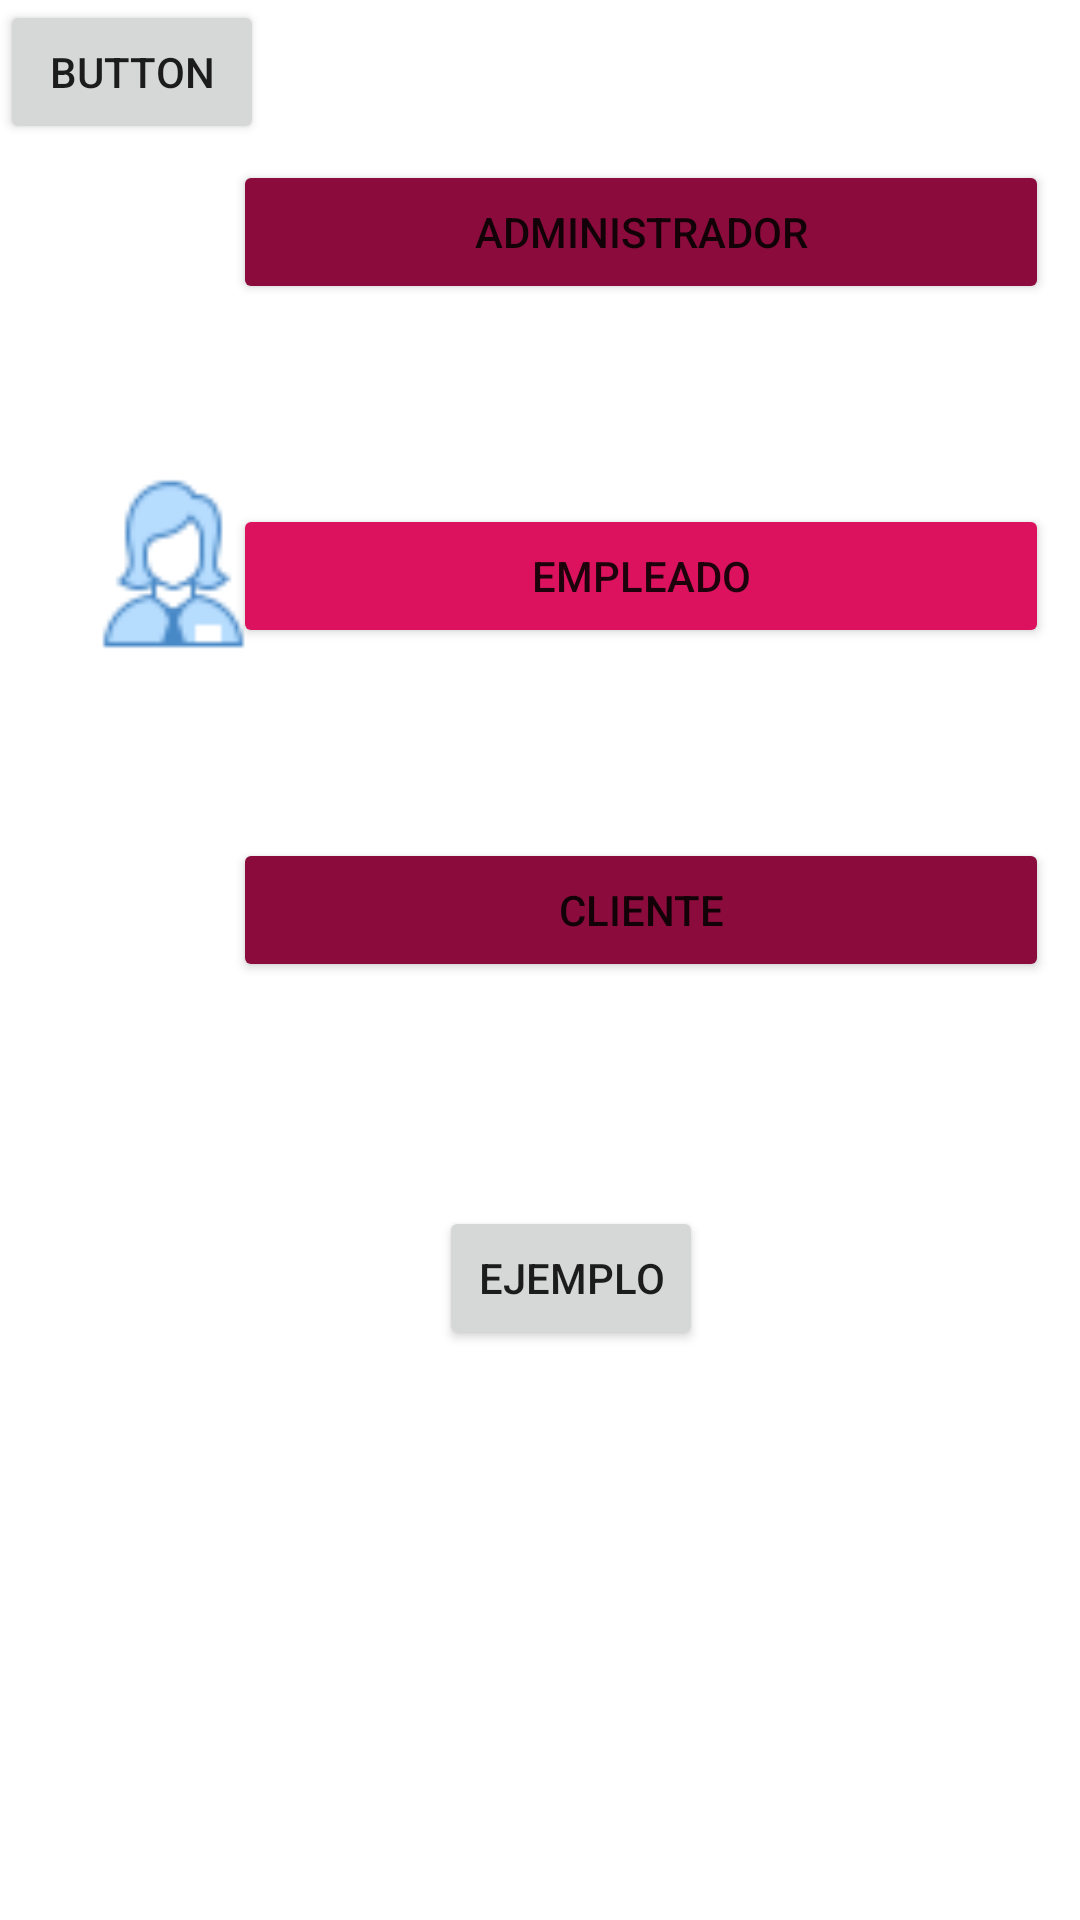

Locate icon controls on the screen. Image size 1080 × 1920, boxes as Rect(x1, y1, x2, y2).
collaborator female: Rect(102, 480, 268, 648)
